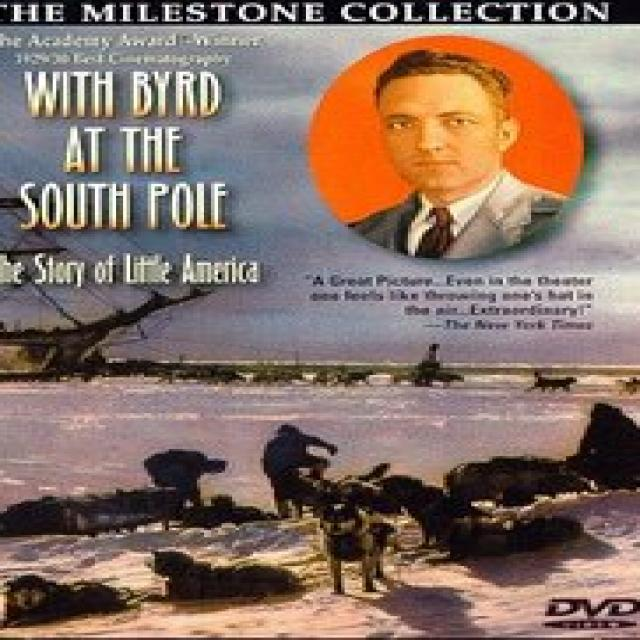movie-judul: (8, 68, 250, 237)
picture: (0, 302, 640, 636), (333, 55, 564, 251)
